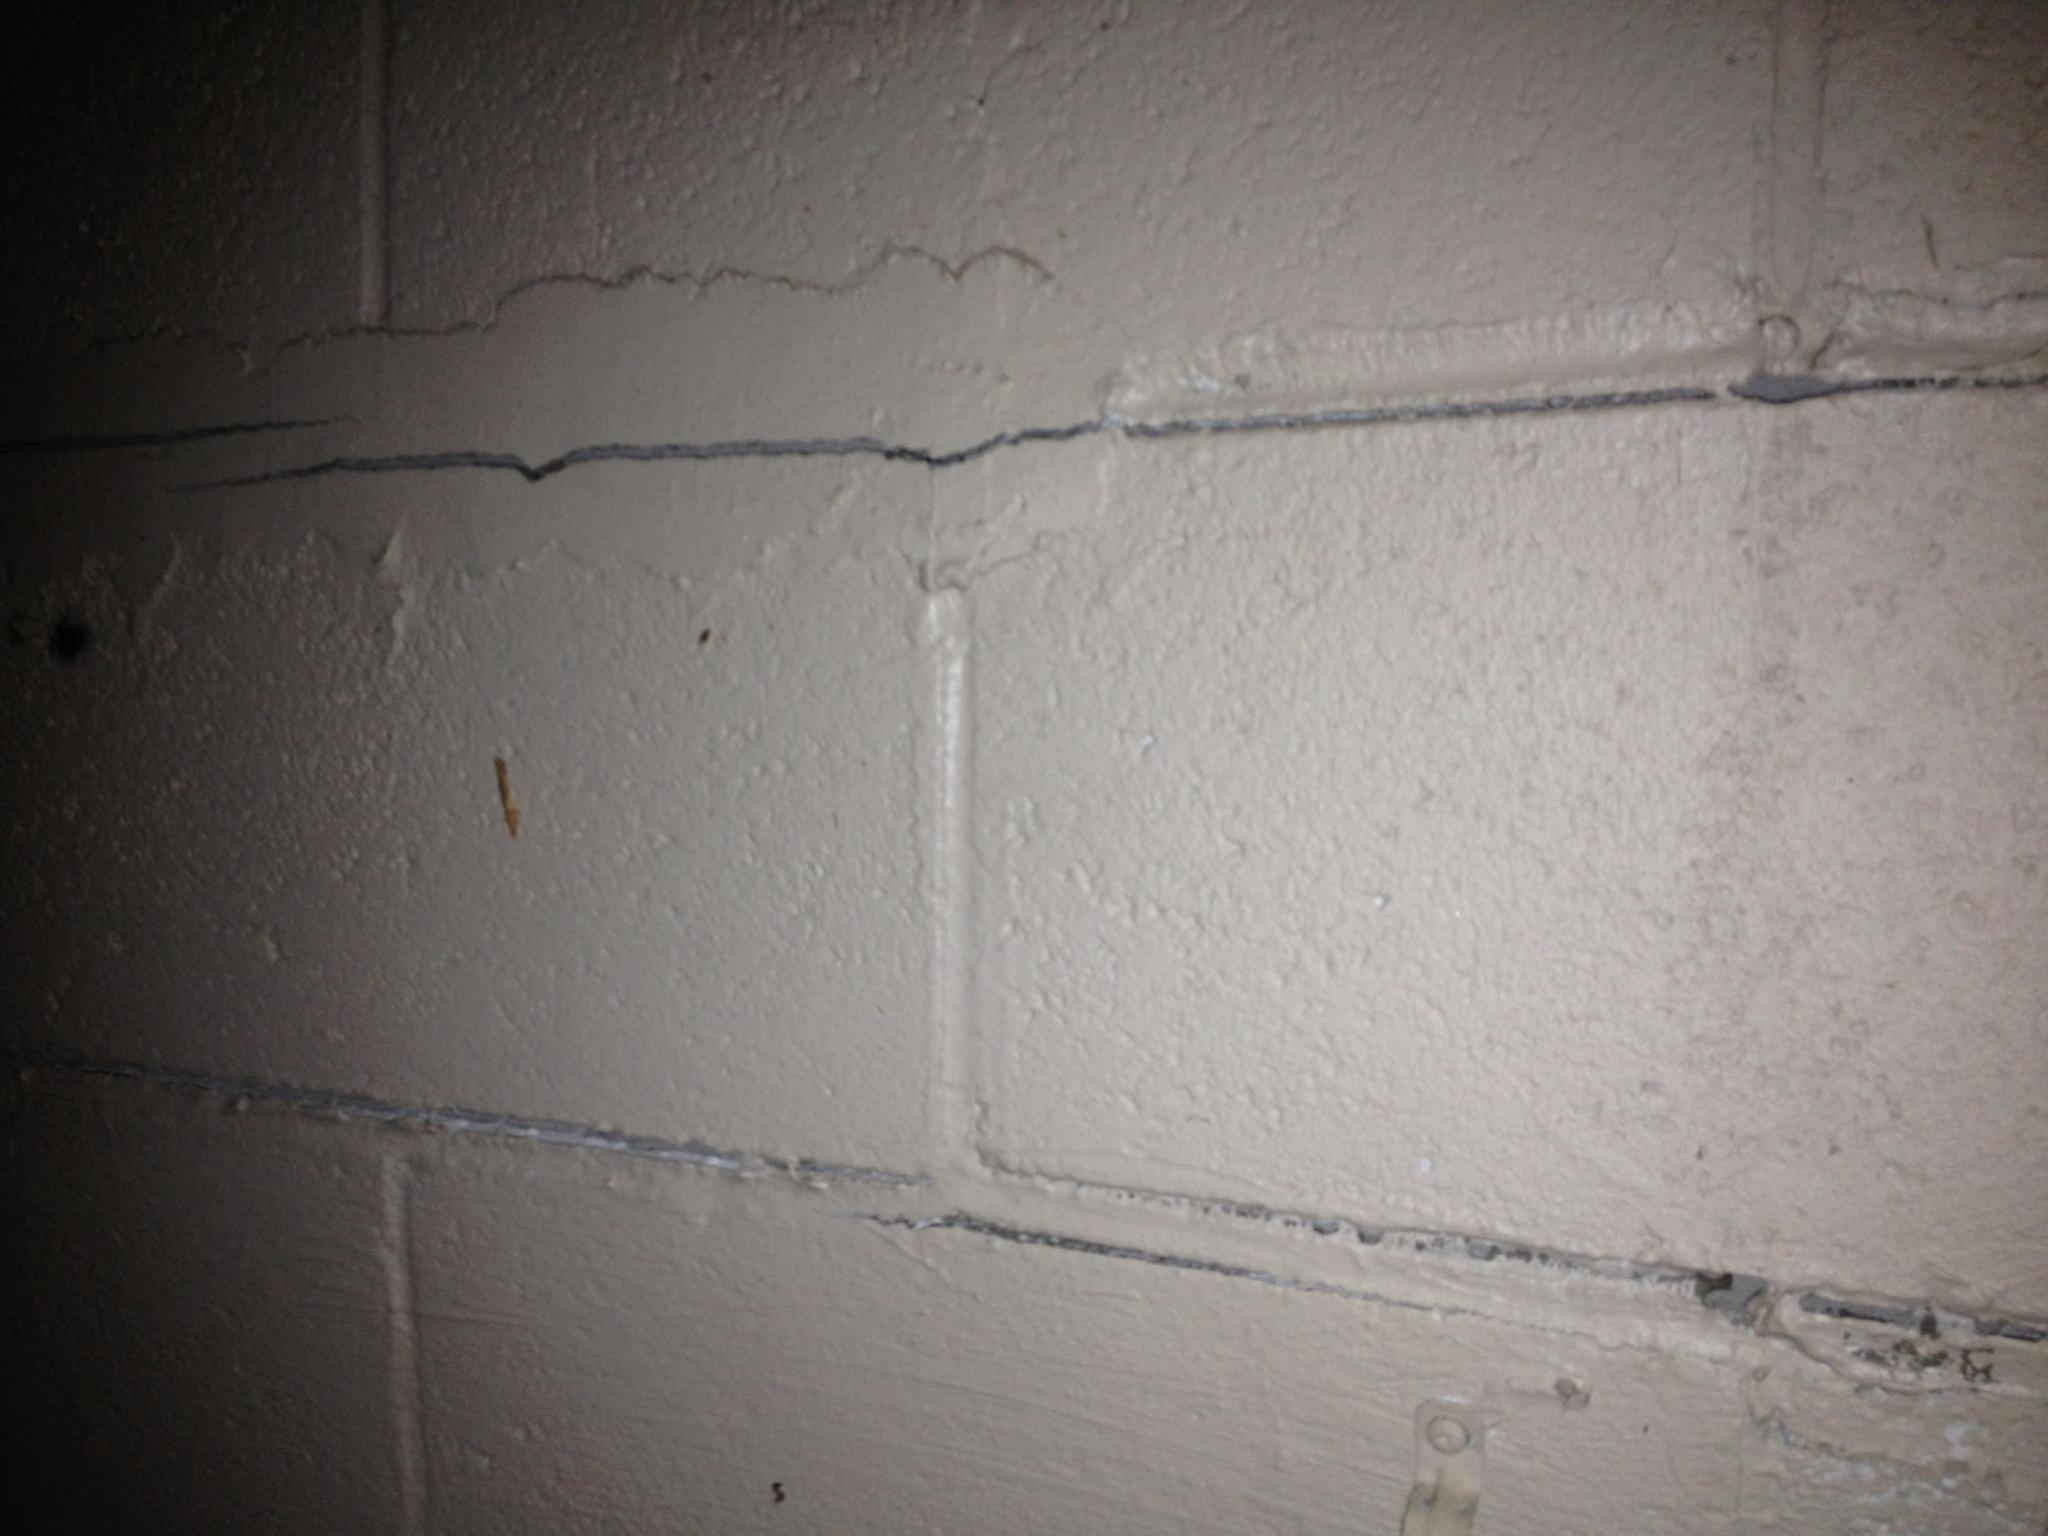crack: (198, 369, 2048, 489), (0, 415, 364, 455)
